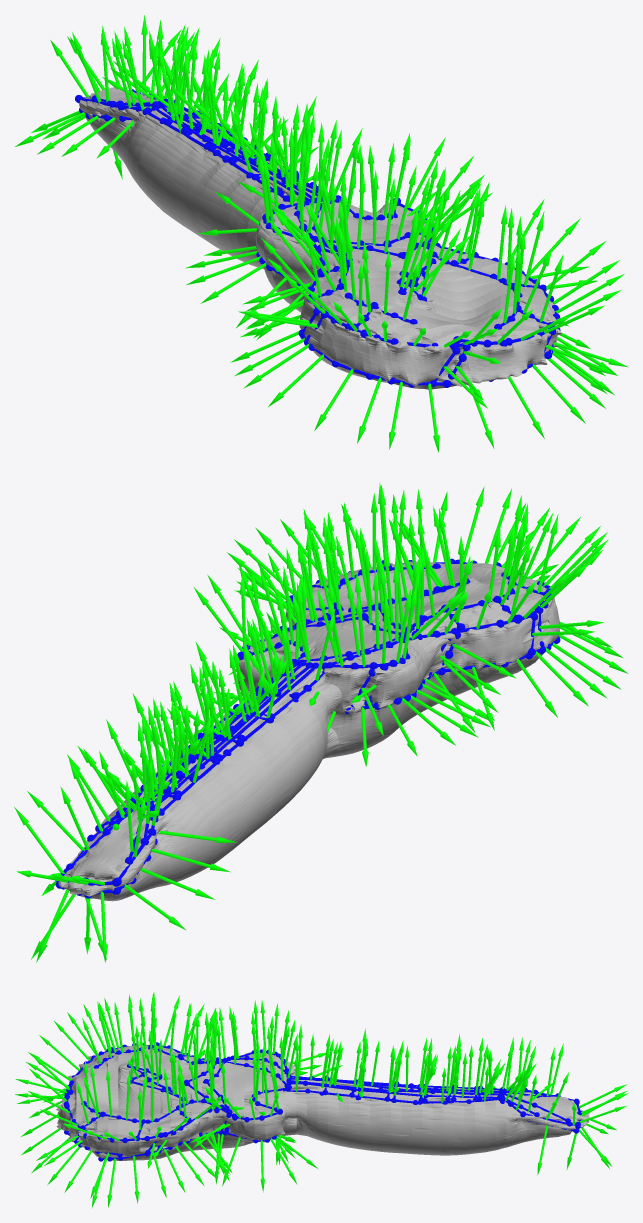
The model's file is author2_guitar.gltf.
3 renders of one model, top to bottom at view 1: azimuth 30°, elevation 25°; view 2: azimuth 150°, elevation 25°; view 3: azimuth 270°, elevation 25°, orthographic. The views are drawn at different scales.
Bounding box in the file's own units: 0.5068 × 0.2879 × 1.11.
